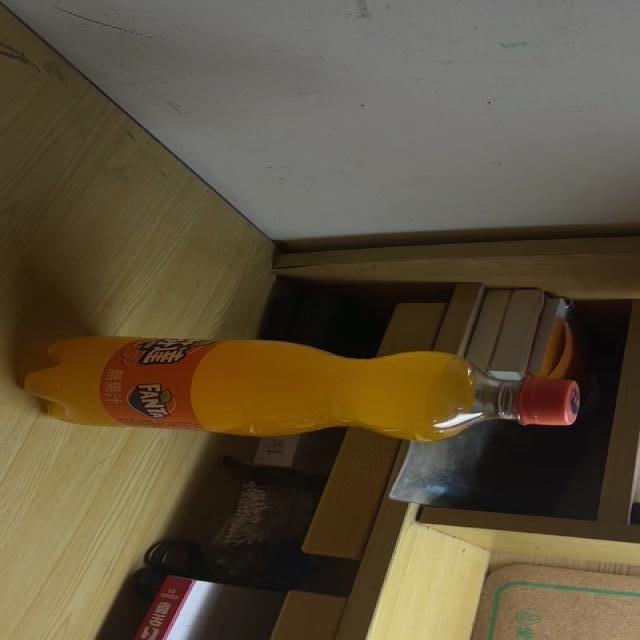Fanta: (19, 336, 582, 442)
